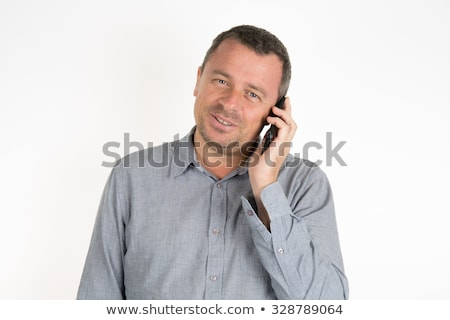phone: (254, 93, 296, 157)
talk: (193, 73, 301, 176)
